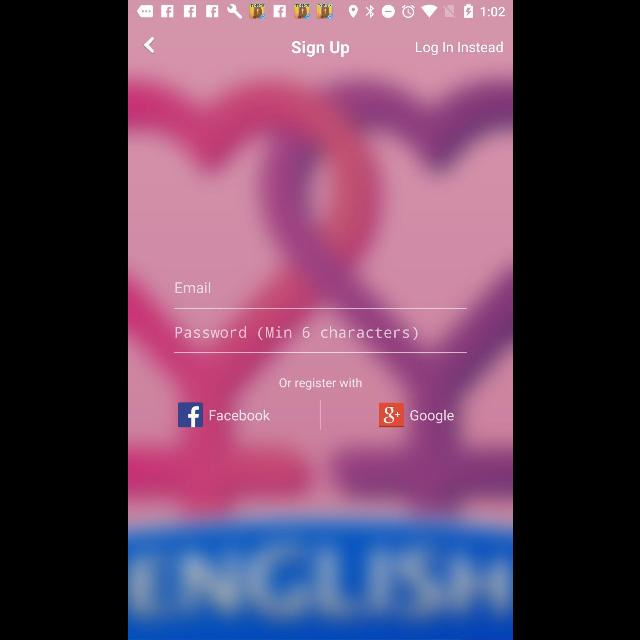icon: (378, 402, 404, 428), (178, 402, 202, 428), (142, 36, 154, 54)
input: (174, 326, 466, 354), (174, 282, 466, 308)
text: (175, 326, 417, 340), (416, 42, 502, 56), (278, 378, 362, 390), (291, 41, 349, 58), (208, 409, 270, 421), (409, 410, 453, 424), (174, 282, 210, 294)
uppertaskbar: (128, 1, 512, 23)
